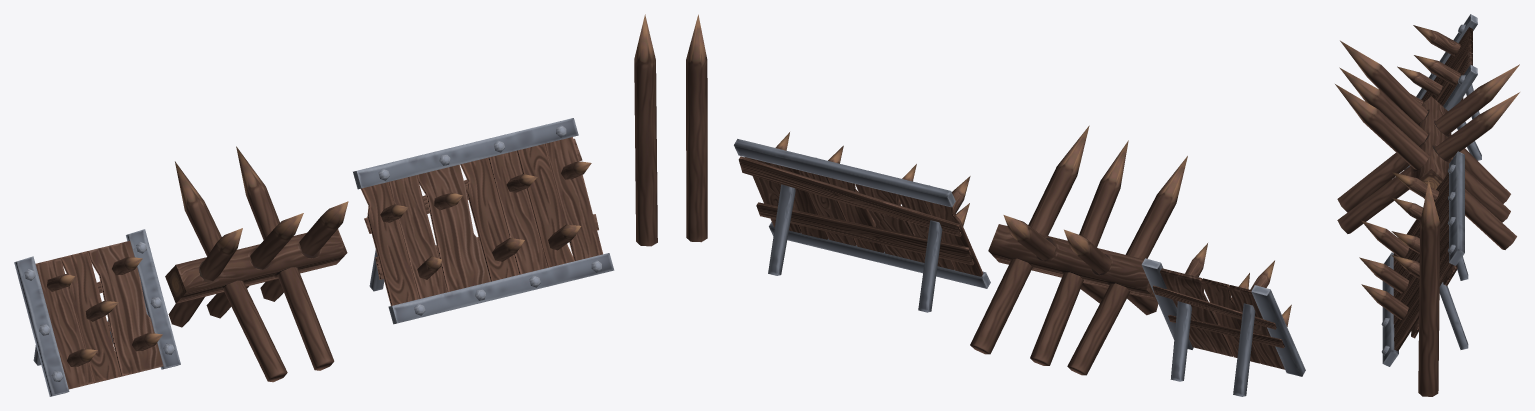
File: env_Barricades.fbx
3 views of the same model, side by side, from view 1: azimuth 30°, elevation 25°; view 2: azimuth 150°, elevation 25°; view 3: azimuth 270°, elevation 25° (orthographic). The views are drawn at different scales.
Parts seen in each view (by area): view 1: env_BarricadeNormal, env_BarricadeSmall, env_BarricadeSpike, env_WoodSpike; view 2: env_BarricadeNormal, env_BarricadeSpike, env_BarricadeSmall, env_WoodSpike; view 3: env_BarricadeSpike, env_BarricadeNormal, env_BarricadeSmall, env_WoodSpike.
Part boxes in pixels (x1,y1,x2,y2): env_BarricadeNormal: (353,118,614,324); env_BarricadeSmall: (14,229,180,396); env_BarricadeSpike: (165,146,348,382); env_WoodSpike: (634,14,657,246); env_BarricadeNormal: (734,132,990,312); env_BarricadeSpike: (970,125,1187,375); env_BarricadeSmall: (1141,243,1305,396); env_WoodSpike: (686,14,707,242); env_BarricadeSpike: (1335,40,1519,249); env_BarricadeNormal: (1359,151,1468,366); env_BarricadeSmall: (1397,14,1481,169); env_WoodSpike: (1418,181,1440,396).
Size of the model in its own units: 546 by 201 by 154.
